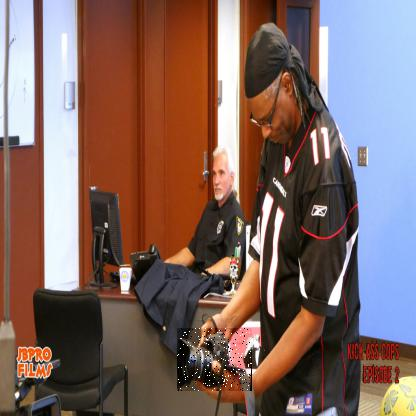Camera: (178, 330, 254, 394)
